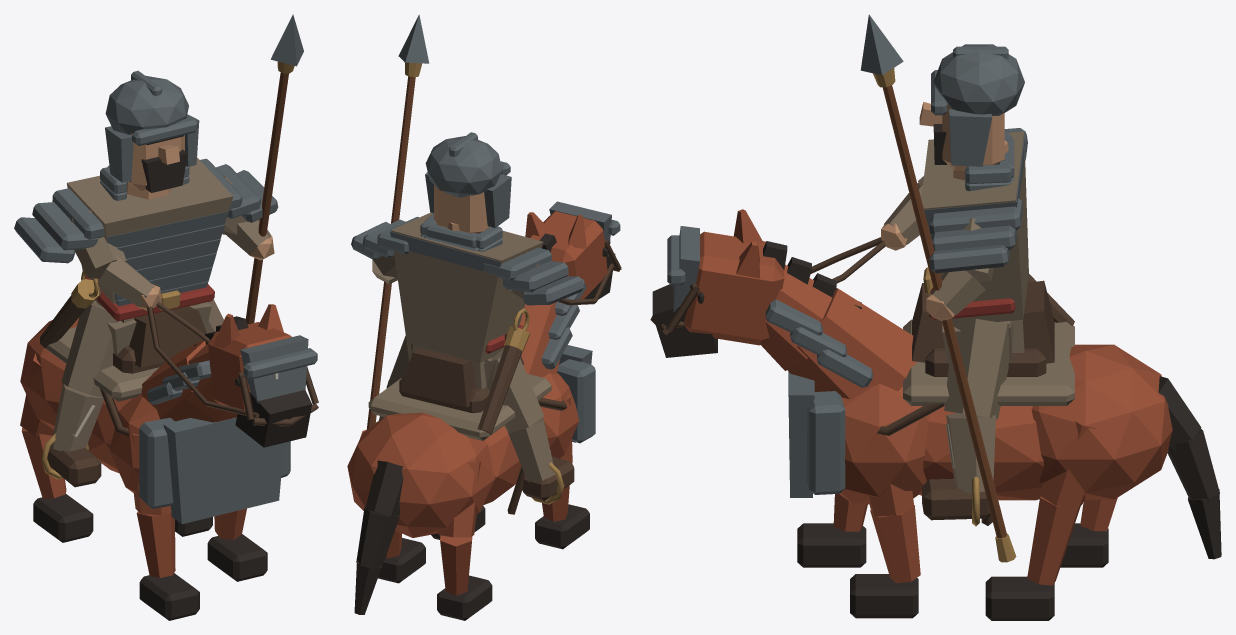
Rendered from chr_f1_heavy_cavalry_pixel_v003.glb.
3 renders of one model, left to right at view 1: azimuth 30°, elevation 25°; view 2: azimuth 150°, elevation 25°; view 3: azimuth 270°, elevation 25°, orthographic. The views are drawn at different scales.
Parts seen in each view (by area): view 1: Horse_Armor_Chest_Center, Rider_Torso_Underlayer, Rider_Helmet_Dome, Rider_Leg_L_Thigh, Horse_Head, Saddle_Pommel, Horse_Muzzle, Horse_Croup, Horse_Armor_Chest_L, Horse_Armor_Forehead, Horse_Chest, Rider_Leg_L_Shin (+47 smaller); view 2: Horse_Croup, Rider_Torso_Underlayer, Rider_Helmet_Dome, Saddle_Cantle, Saddle_Pad, Horse_Head, Lance_Shaft, Horse_Armor_Chest_L, Horse_Chest, Rider_Leg_L_Thigh, Rider_Head, Rider_Leg_L_Shin (+35 smaller); view 3: Horse_Croup, Horse_Chest, Horse_Head, Horse_Neck_Lower, Rider_Torso_Underlayer, Horse_Barrel, Saddle_Pad, Rider_Helmet_Dome, Rider_Leg_R_Thigh, Lance_Shaft, Horse_Armor_Chest_R, Horse_Hoof_RR (+35 smaller).
Part boxes in pixels (x1,y1,x2,y2): Horse_Armor_Chest_Center: (163, 417, 283, 524); Rider_Torso_Underlayer: (67, 157, 233, 320); Rider_Helmet_Dome: (105, 75, 188, 134); Rider_Leg_L_Thigh: (61, 302, 119, 397); Horse_Head: (208, 322, 291, 411); Saddle_Pommel: (129, 306, 206, 367); Horse_Muzzle: (235, 390, 311, 447); Horse_Croup: (20, 317, 79, 429); Horse_Armor_Chest_L: (139, 417, 174, 508); Horse_Armor_Forehead: (240, 335, 308, 404); Horse_Chest: (110, 394, 170, 506); Rider_Leg_L_Shin: (52, 383, 103, 451); Horse_Croup: (347, 412, 494, 537); Rider_Torso_Underlayer: (390, 212, 543, 362); Rider_Helmet_Dome: (425, 136, 502, 197); Saddle_Cantle: (400, 348, 476, 407); Saddle_Pad: (368, 374, 551, 440); Horse_Head: (529, 211, 607, 299); Lance_Shaft: (366, 76, 415, 429); Horse_Armor_Chest_L: (557, 359, 595, 443); Horse_Chest: (540, 373, 578, 458); Rider_Leg_L_Thigh: (484, 349, 543, 433); Rider_Head: (434, 185, 489, 233); Rider_Leg_L_Shin: (507, 417, 555, 482); Horse_Croup: (1031, 344, 1172, 499); Horse_Chest: (839, 384, 929, 504); Horse_Head: (684, 231, 784, 345); Horse_Neck_Lower: (787, 288, 916, 399); Rider_Torso_Underlayer: (921, 131, 1028, 324); Horse_Barrel: (919, 406, 1043, 500); Saddle_Pad: (903, 319, 1074, 405); Rider_Helmet_Dome: (933, 44, 1024, 115); Rider_Leg_R_Thigh: (944, 317, 1014, 419); Lance_Shaft: (882, 85, 1006, 538); Horse_Armor_Chest_R: (806, 391, 845, 494); Horse_Hoof_RR: (985, 576, 1054, 620).
Size of the model in its own units: 1.87 by 4.2 by 3.49.
